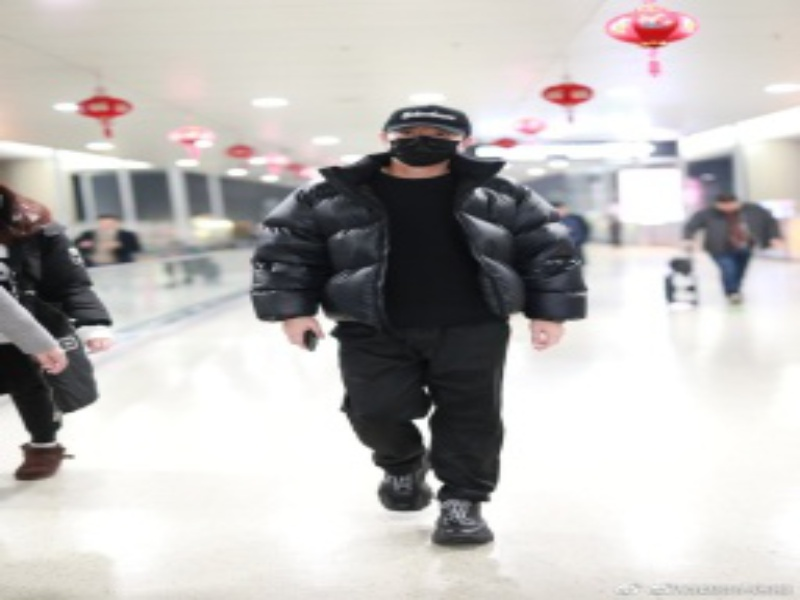ManaoArotava: (368, 95, 480, 191)
